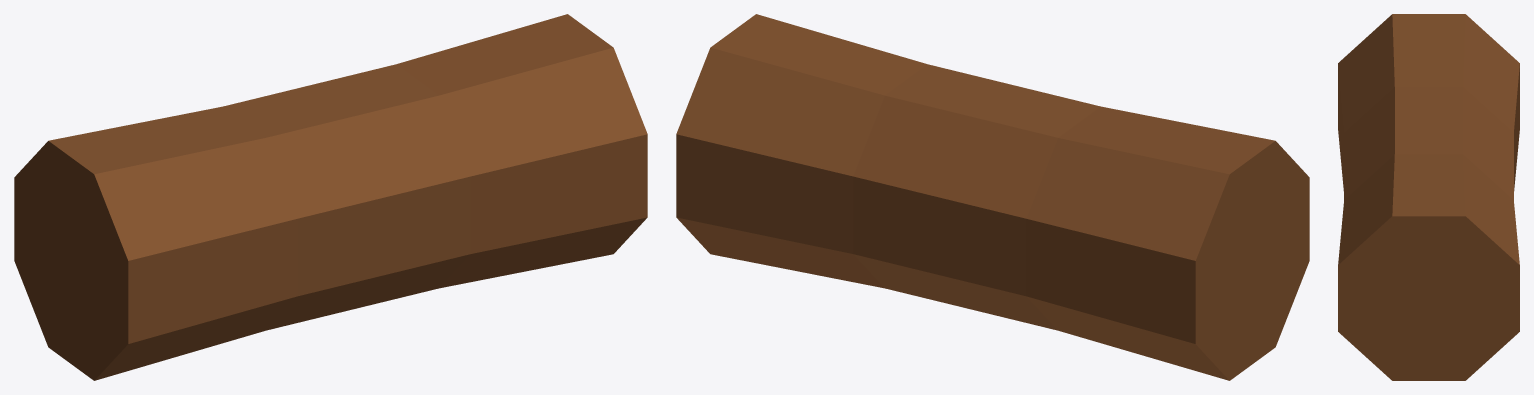
Rendered from Wood.fbx.
3 renders of one model, left to right at view 1: azimuth 30°, elevation 25°; view 2: azimuth 150°, elevation 25°; view 3: azimuth 270°, elevation 25°, orthographic. The views are drawn at different scales.
Parts seen in each view (by area): view 1: Cube; view 2: Cube; view 3: Cube.
Boxes of the visible parts, x1,y1,x2,y2 form: Cube: (14, 14, 647, 380); Cube: (676, 14, 1309, 380); Cube: (1338, 14, 1519, 380).
Size of the model in its own units: 72.14 by 27.42 by 27.42.
